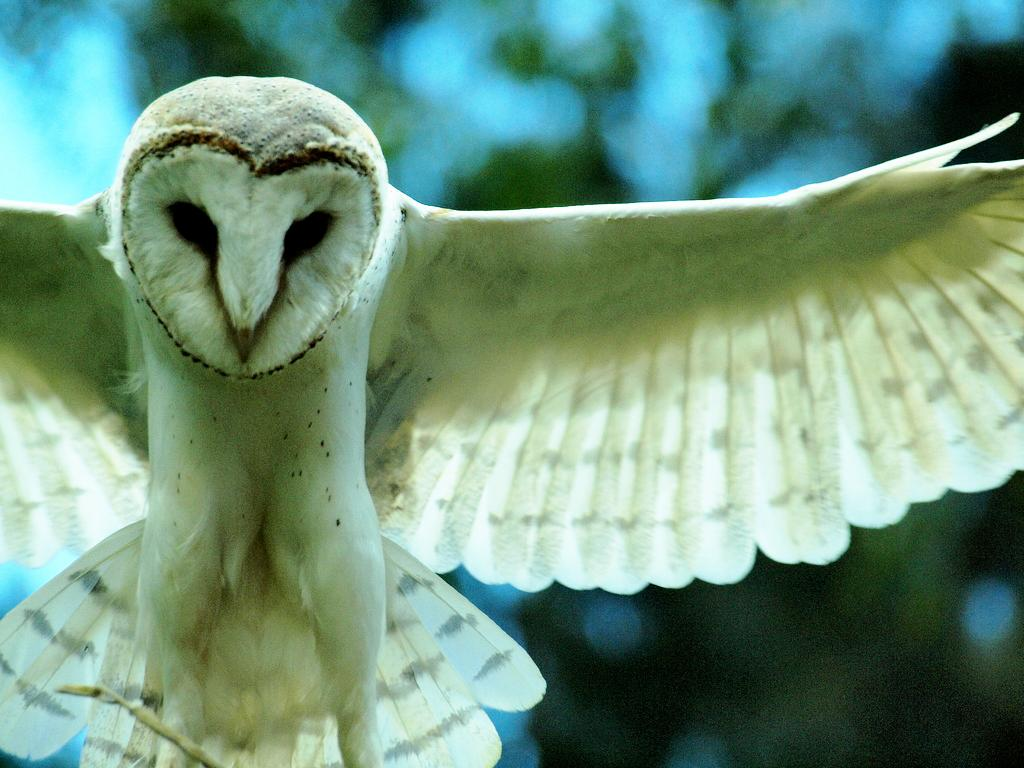Owl: (0, 72, 1023, 768)
